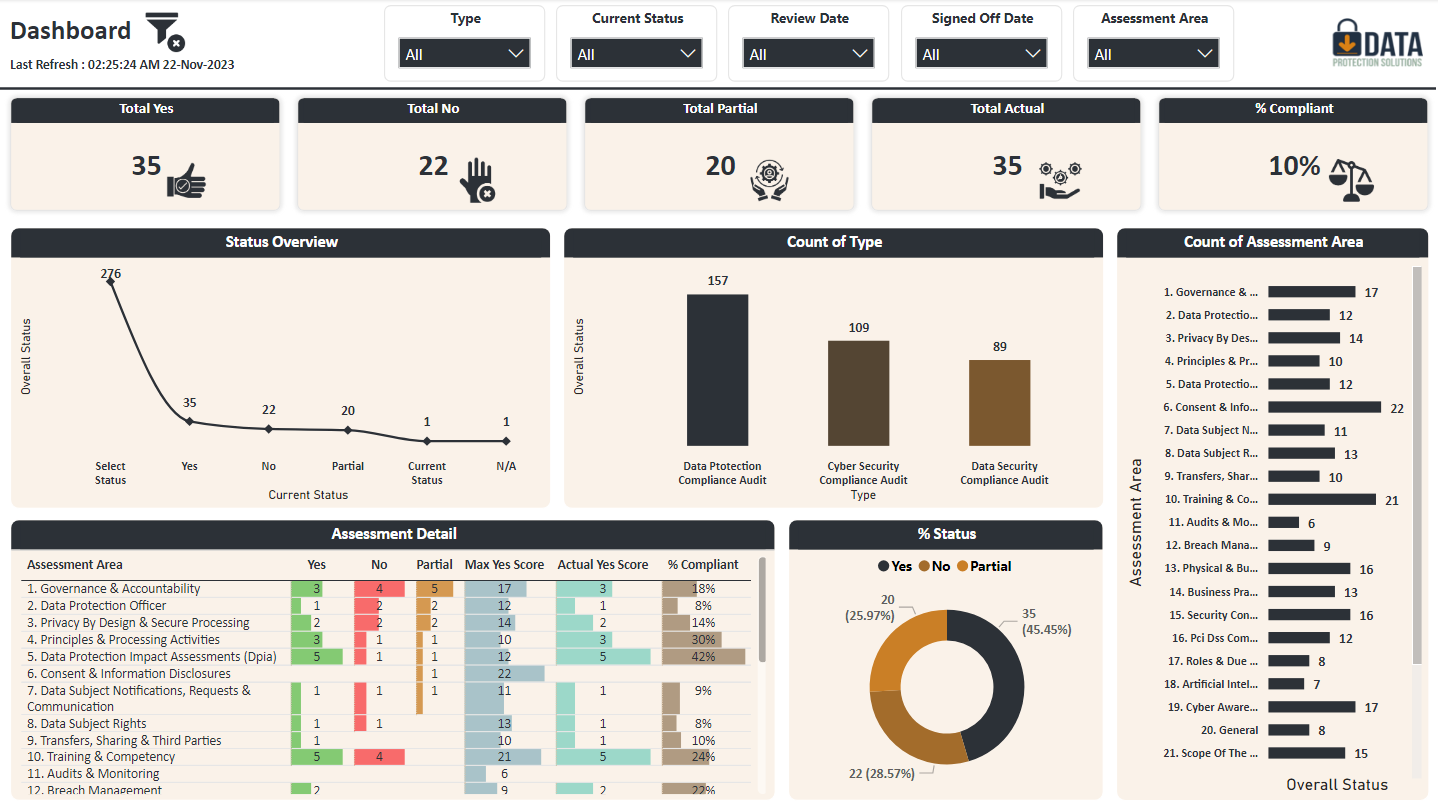

What the dashboard file says about the page in this screenshot:
{"tool":"powerbi","page":{"name":"Dashboard","canvas":[1280,720],"ordinal":0},"visuals":[{"type":"card","title":"% Compliant","fields":{"Values":["f_Measures.% COMPLIANT"]},"box":[1029.4,87,240,101.1],"z":0,"group":"g1"},{"type":"tableEx","title":"Assessment Detail","fields":{"Values":["Main_Data.Assessment Area","f_Measures.Total Yes","f_Measures.Total No","f_Measures.Total Partial","f_Measures.Count of Status","f_Measures.Total Actual Yes Score","f_Measures.% COMPLIANT"]},"box":[11.5,461.1,679.2,250],"z":0},{"type":"card","title":"Total Actual","fields":{"Values":["f_Measures.Total Actual Yes Score"]},"box":[774.9,87,240,101.1],"z":1000,"group":"g1"},{"type":"shape","box":[0,71.8,1276,15.1],"z":1000},{"type":"card","title":"Total Partial","fields":{"Values":["f_Measures.Total Partial"]},"box":[520.5,87,240,101.1],"z":2000,"group":"g1"},{"type":"textbox","box":[6.8,6.8,151.6,43.4],"z":2000},{"type":"card","title":"Total No","fields":{"Values":["f_Measures.Total No"]},"box":[266,87,240,101.1],"z":3000,"group":"g1"},{"type":"image","box":[1179.3,8,90.4,60.3],"z":3000},{"type":"card","title":"Total Yes","fields":{"Values":["f_Measures.Total Yes"]},"box":[11.5,87,240,101.1],"z":4000,"group":"g1"},{"type":"slicer","title":"Current Status","fields":{"Values":["Main_Data.Current Status"]},"box":[495.8,5.3,142.8,68],"z":4000},{"type":"image","box":[649.5,135.8,70,49.7],"z":5000,"group":"g1"},{"type":"group","id":"g1","title":"Group 1","box":[11.5,87,1257.9,101.1],"z":5000},{"type":"slicer","title":"Review Date","fields":{"Values":["Main_Data.Review Date"]},"box":[648.6,5.3,142.8,68.3],"z":6000},{"type":"image","box":[133,135.8,70,49.7],"z":6000,"group":"g1"},{"type":"slicer","title":"Signed Off Date","fields":{"Values":["Main_Data.Signed Off Date"]},"box":[801.3,5.3,142.8,68.3],"z":7000},{"type":"image","box":[1166,135.8,70,49.7],"z":7000,"group":"g1"},{"type":"slicer","title":"Type","fields":{"Values":["Main_Data.Type"]},"box":[343,5.3,142.8,68.3],"z":8000},{"type":"image","box":[391.2,135.8,70,49.7],"z":8000,"group":"g1"},{"type":"image","box":[907.7,135.8,70,49.7],"z":9000,"group":"g1"},{"type":"donutChart","title":"% Status","fields":{"Y":["f_Measures.Total Yes","f_Measures.Total No","f_Measures.Total Partial"]},"box":[701.7,461.1,280,250],"z":9000},{"type":"lineChart","title":"Status Overview","fields":{"Category":["Main_Data.Current Status"],"Y":["f_Measures.Count of Status"]},"box":[11.4,202.2,480,250],"z":10000},{"type":"clusteredColumnChart","title":"Count of Type","fields":{"Y":["f_Measures.Count of Status"],"Category":["Main_Data.Type"]},"box":[502,202.2,479.7,250],"z":11000},{"type":"clusteredBarChart","title":"Count of Assessment Area","fields":{"Category":["Main_Data.Assessment Area"],"Y":["f_Measures.Count of Status"]},"box":[992.2,202.2,277.5,509],"z":12000},{"type":"shape","box":[11.5,43.4,205.7,30.1],"z":13000},{"type":"slicer","title":"Assessment Area","fields":{"Values":["Main_Data.Assessment Area"]},"box":[954.1,5.3,142.8,68.3],"z":14000},{"type":"image","box":[127,7,45,45],"z":15000}]}

Visuals, with their boxes in screenshot pixels (x1, y1, x2, y2), scaled from the page's 1280x720 canvas onto the 1438x809 screenshot:
"% Compliant" card: Rect(1156, 98, 1426, 211)
"Assessment Detail" tableEx: Rect(13, 518, 776, 799)
"Total Actual" card: Rect(871, 98, 1140, 211)
shape: Rect(0, 81, 1434, 98)
"Total Partial" card: Rect(585, 98, 854, 211)
textbox: Rect(8, 8, 178, 56)
"Total No" card: Rect(299, 98, 568, 211)
image: Rect(1325, 9, 1426, 77)
"Total Yes" card: Rect(13, 98, 283, 211)
"Current Status" slicer: Rect(557, 6, 717, 82)
image: Rect(730, 153, 808, 208)
"Group 1" group: Rect(13, 98, 1426, 211)
"Review Date" slicer: Rect(729, 6, 889, 83)
image: Rect(149, 153, 228, 208)
"Signed Off Date" slicer: Rect(900, 6, 1061, 83)
image: Rect(1310, 153, 1389, 208)
"Type" slicer: Rect(385, 6, 546, 83)
image: Rect(439, 153, 518, 208)
image: Rect(1020, 153, 1098, 208)
"% Status" donutChart: Rect(788, 518, 1103, 799)
"Status Overview" lineChart: Rect(13, 227, 552, 508)
"Count of Type" clusteredColumnChart: Rect(564, 227, 1103, 508)
"Count of Assessment Area" clusteredBarChart: Rect(1115, 227, 1426, 799)
shape: Rect(13, 49, 244, 83)
"Assessment Area" slicer: Rect(1072, 6, 1232, 83)
image: Rect(143, 8, 193, 58)
